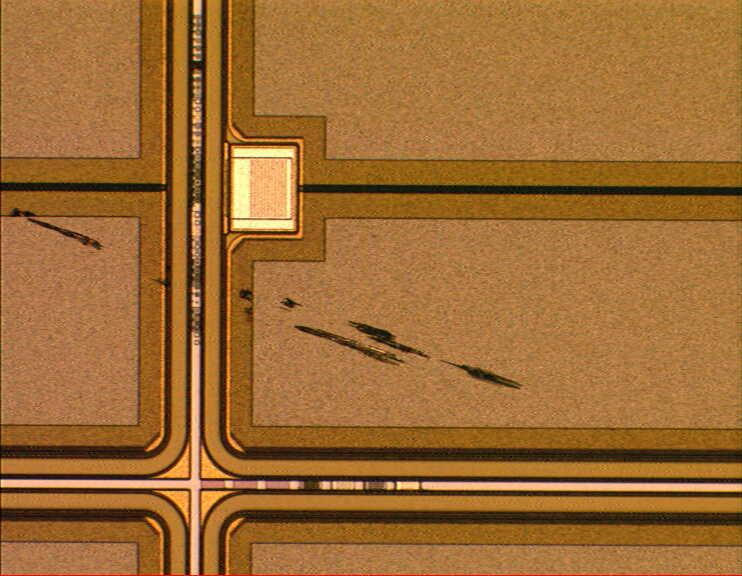SCRATCH: (3, 199, 534, 396)
